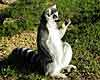cat: (36, 0, 78, 79)
